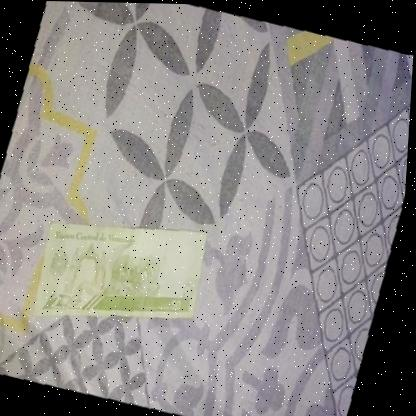fifty-back-vef: (23, 189, 225, 357)
